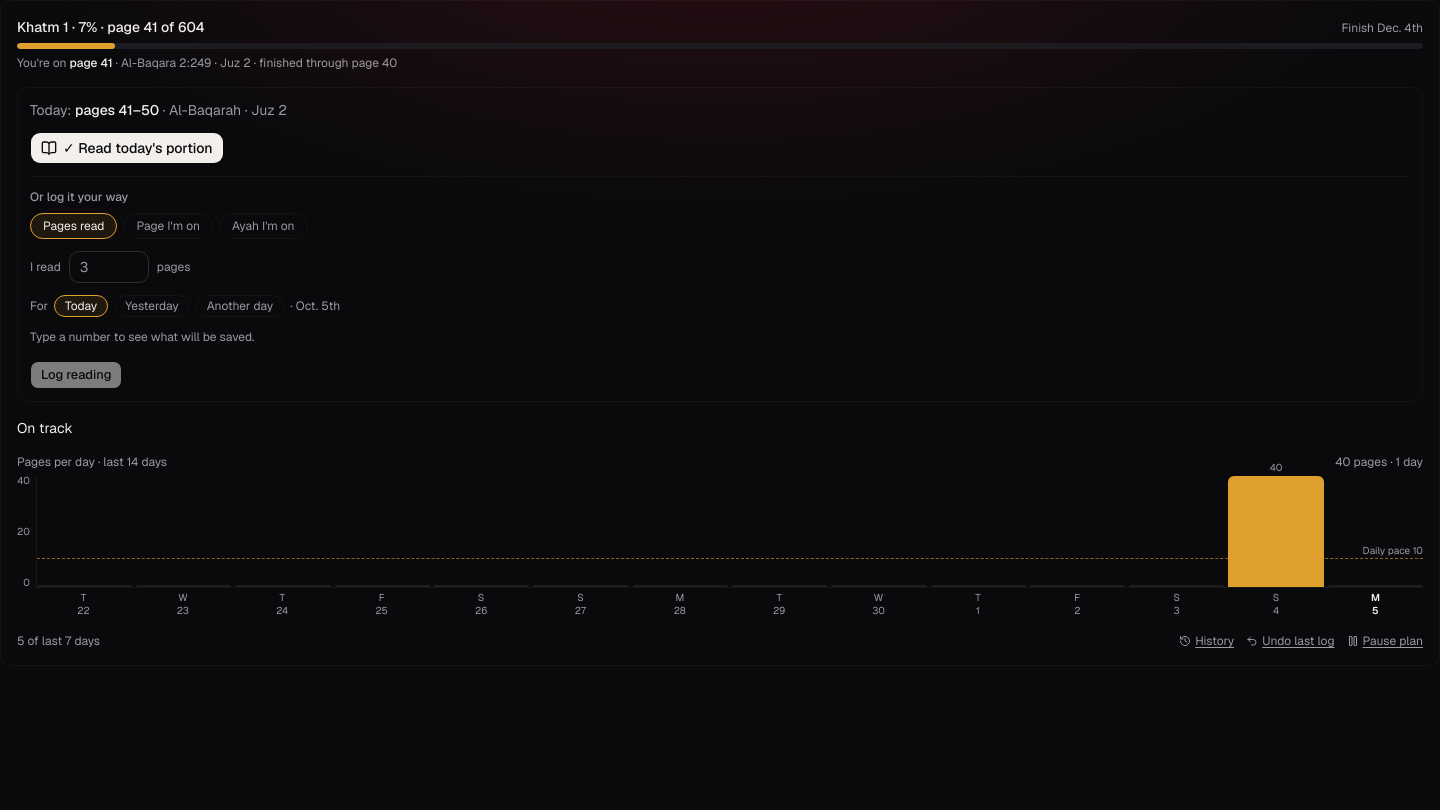
Test: QuranPlanCard (QURAN-02) › a failed log rolls the card back and says why (positive control: the same tap succeeds above)
Click the button with test id "quran-log-portion": (127, 148) [30,132,224,164]
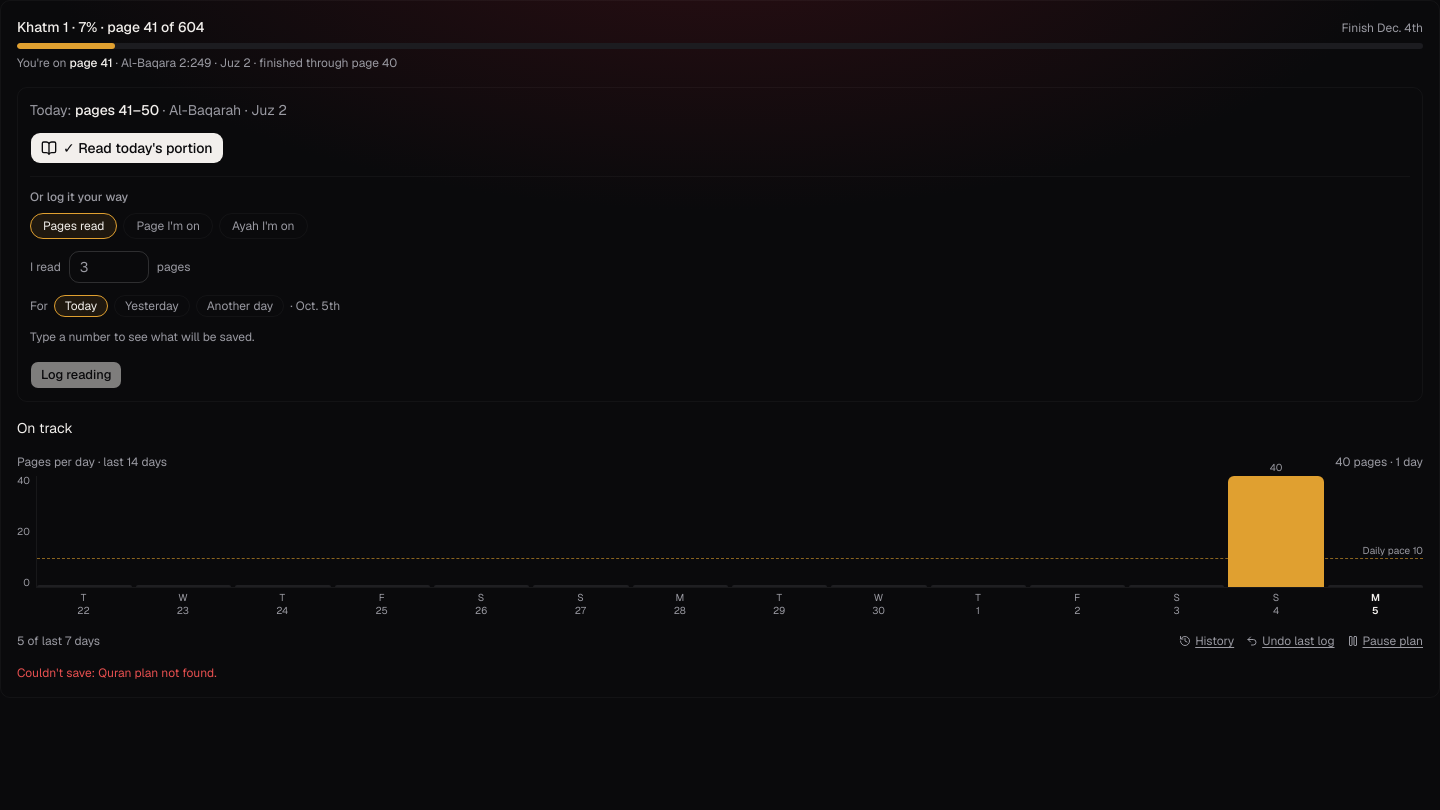
Check: the heading with test id "quran-heading" shows "page 41 of 604", box [17,17,205,37]
Check: the message with test id "quran-plan-error" shows "Quran plan not found.", box [98,665,217,681]
